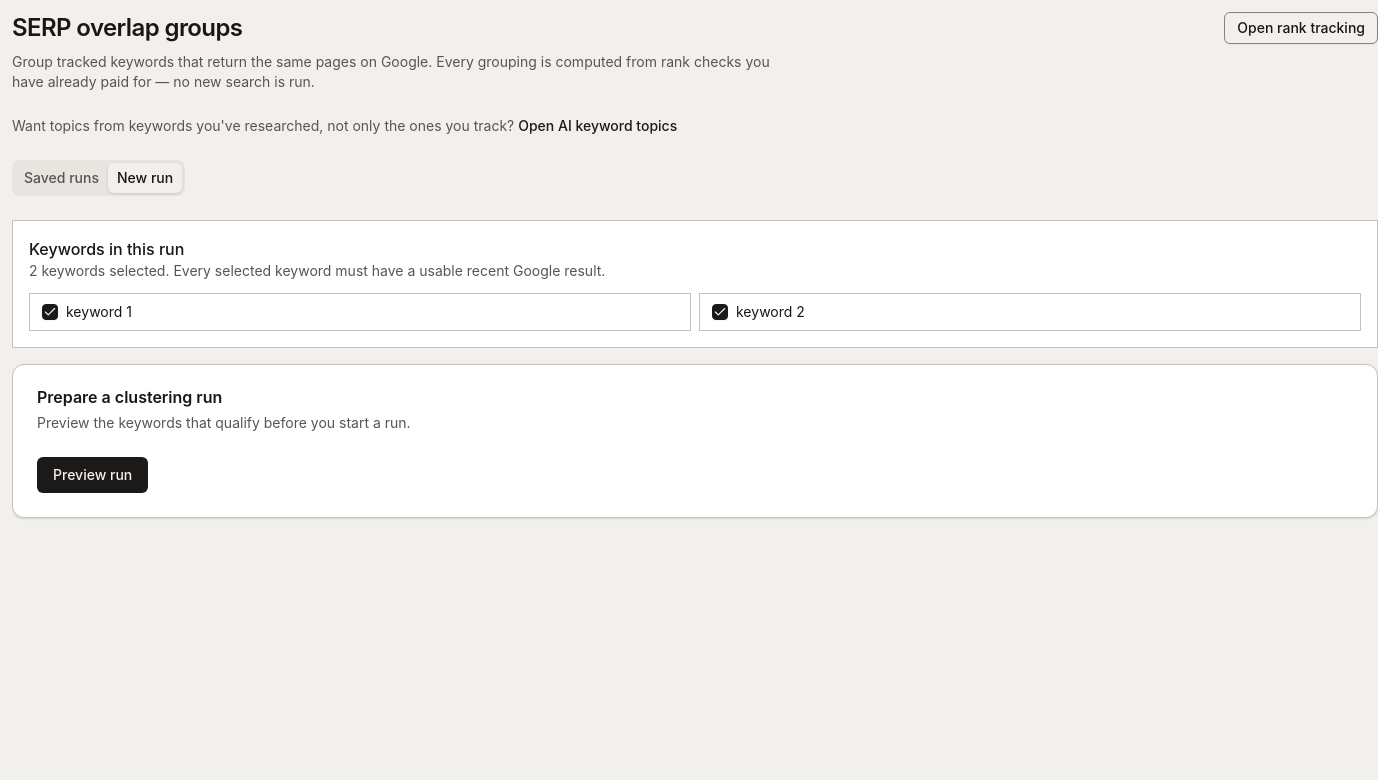
keyword-clusters tab navigation › updates the selected scope when a keyword is toggled off and on
Expected: the text "keywords selected" shows "2", x1=29 y1=262 x2=605 y2=279
Click the checkbox named "keyword 1" at (50, 312), box x1=42 y1=304 x2=58 y2=320
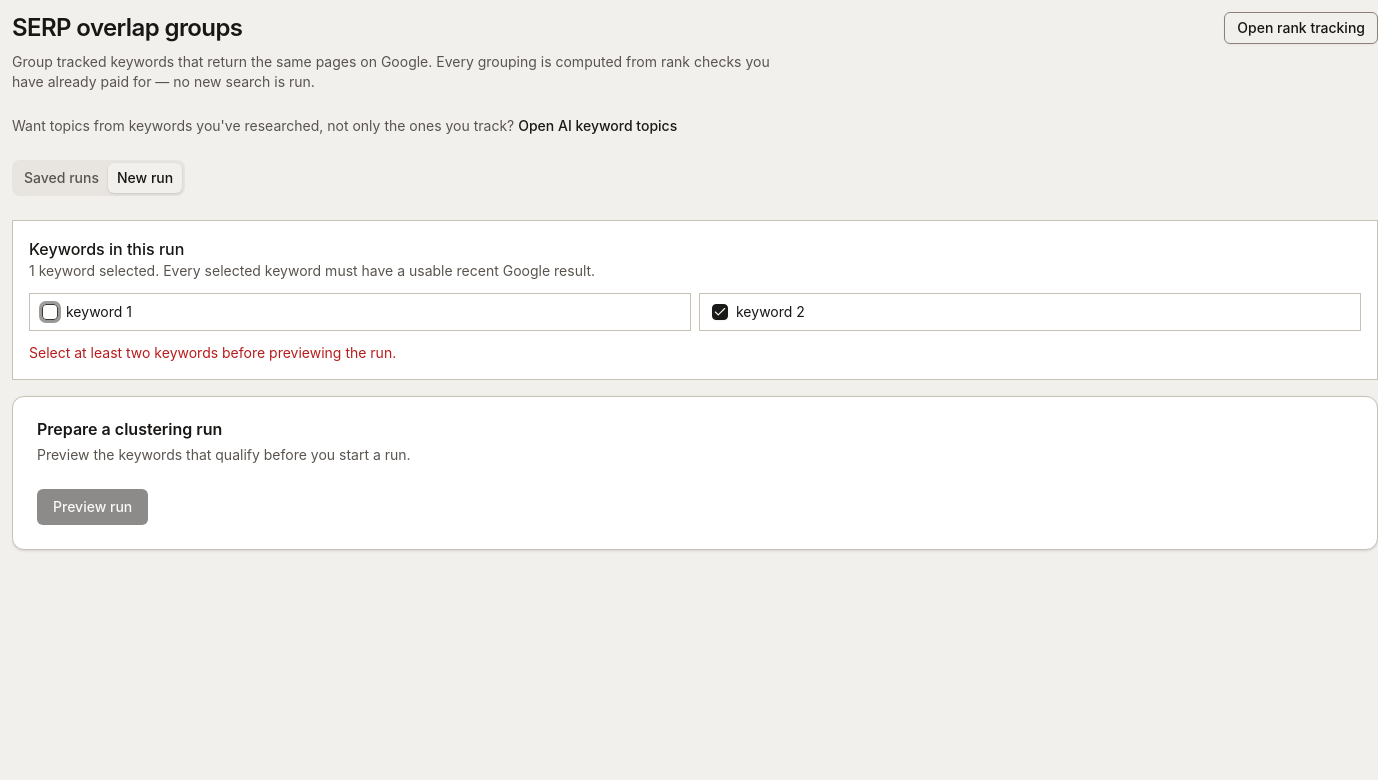
Now the checkbox named "keyword 1" is not checked
Now the text "1 keyword selected. Every selected keyword must have a usable recent Google result." is shown, box x1=29 y1=262 x2=595 y2=279
Click the checkbox named "keyword 1" at (50, 312), box x1=42 y1=304 x2=58 y2=320
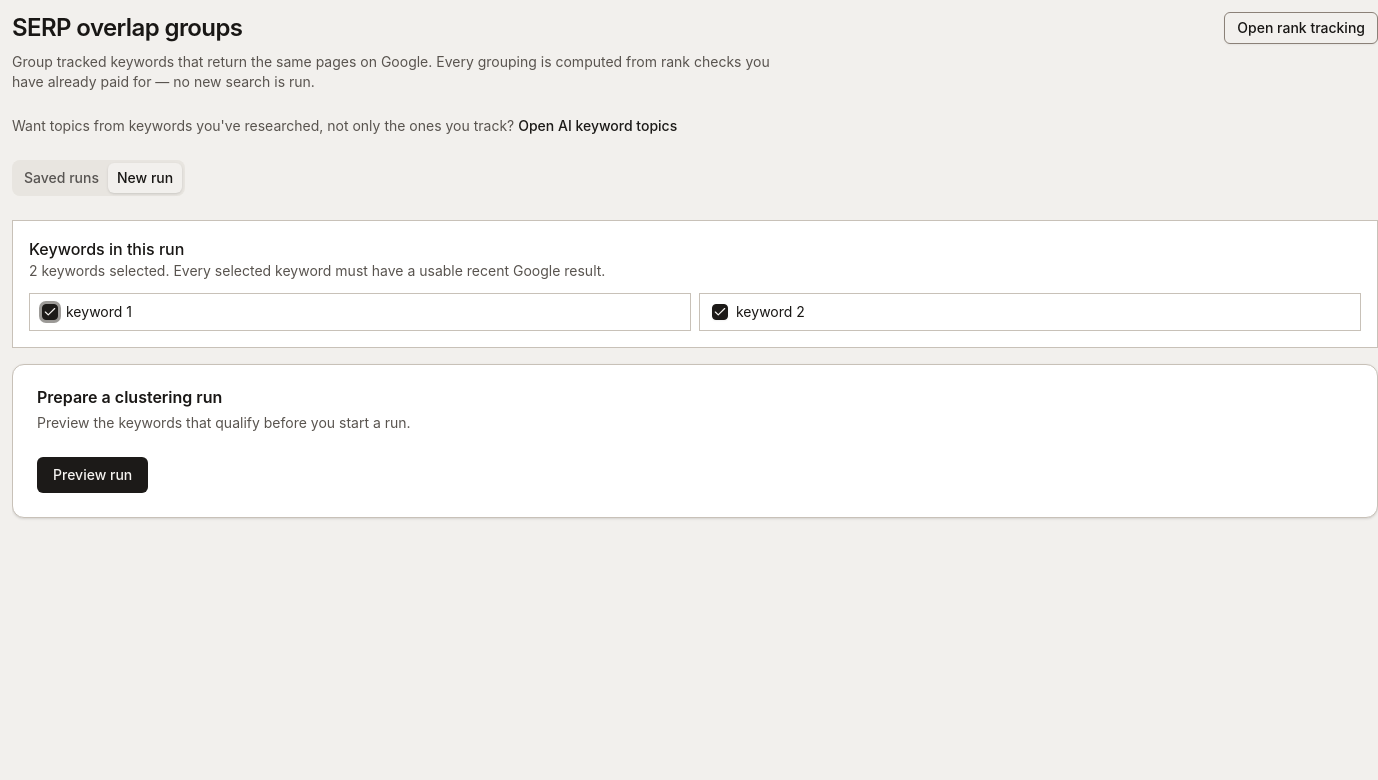
Now the checkbox named "keyword 1" is checked, box x1=42 y1=304 x2=58 y2=320
Now the text "keywords selected" shows "2", box x1=29 y1=262 x2=605 y2=279
